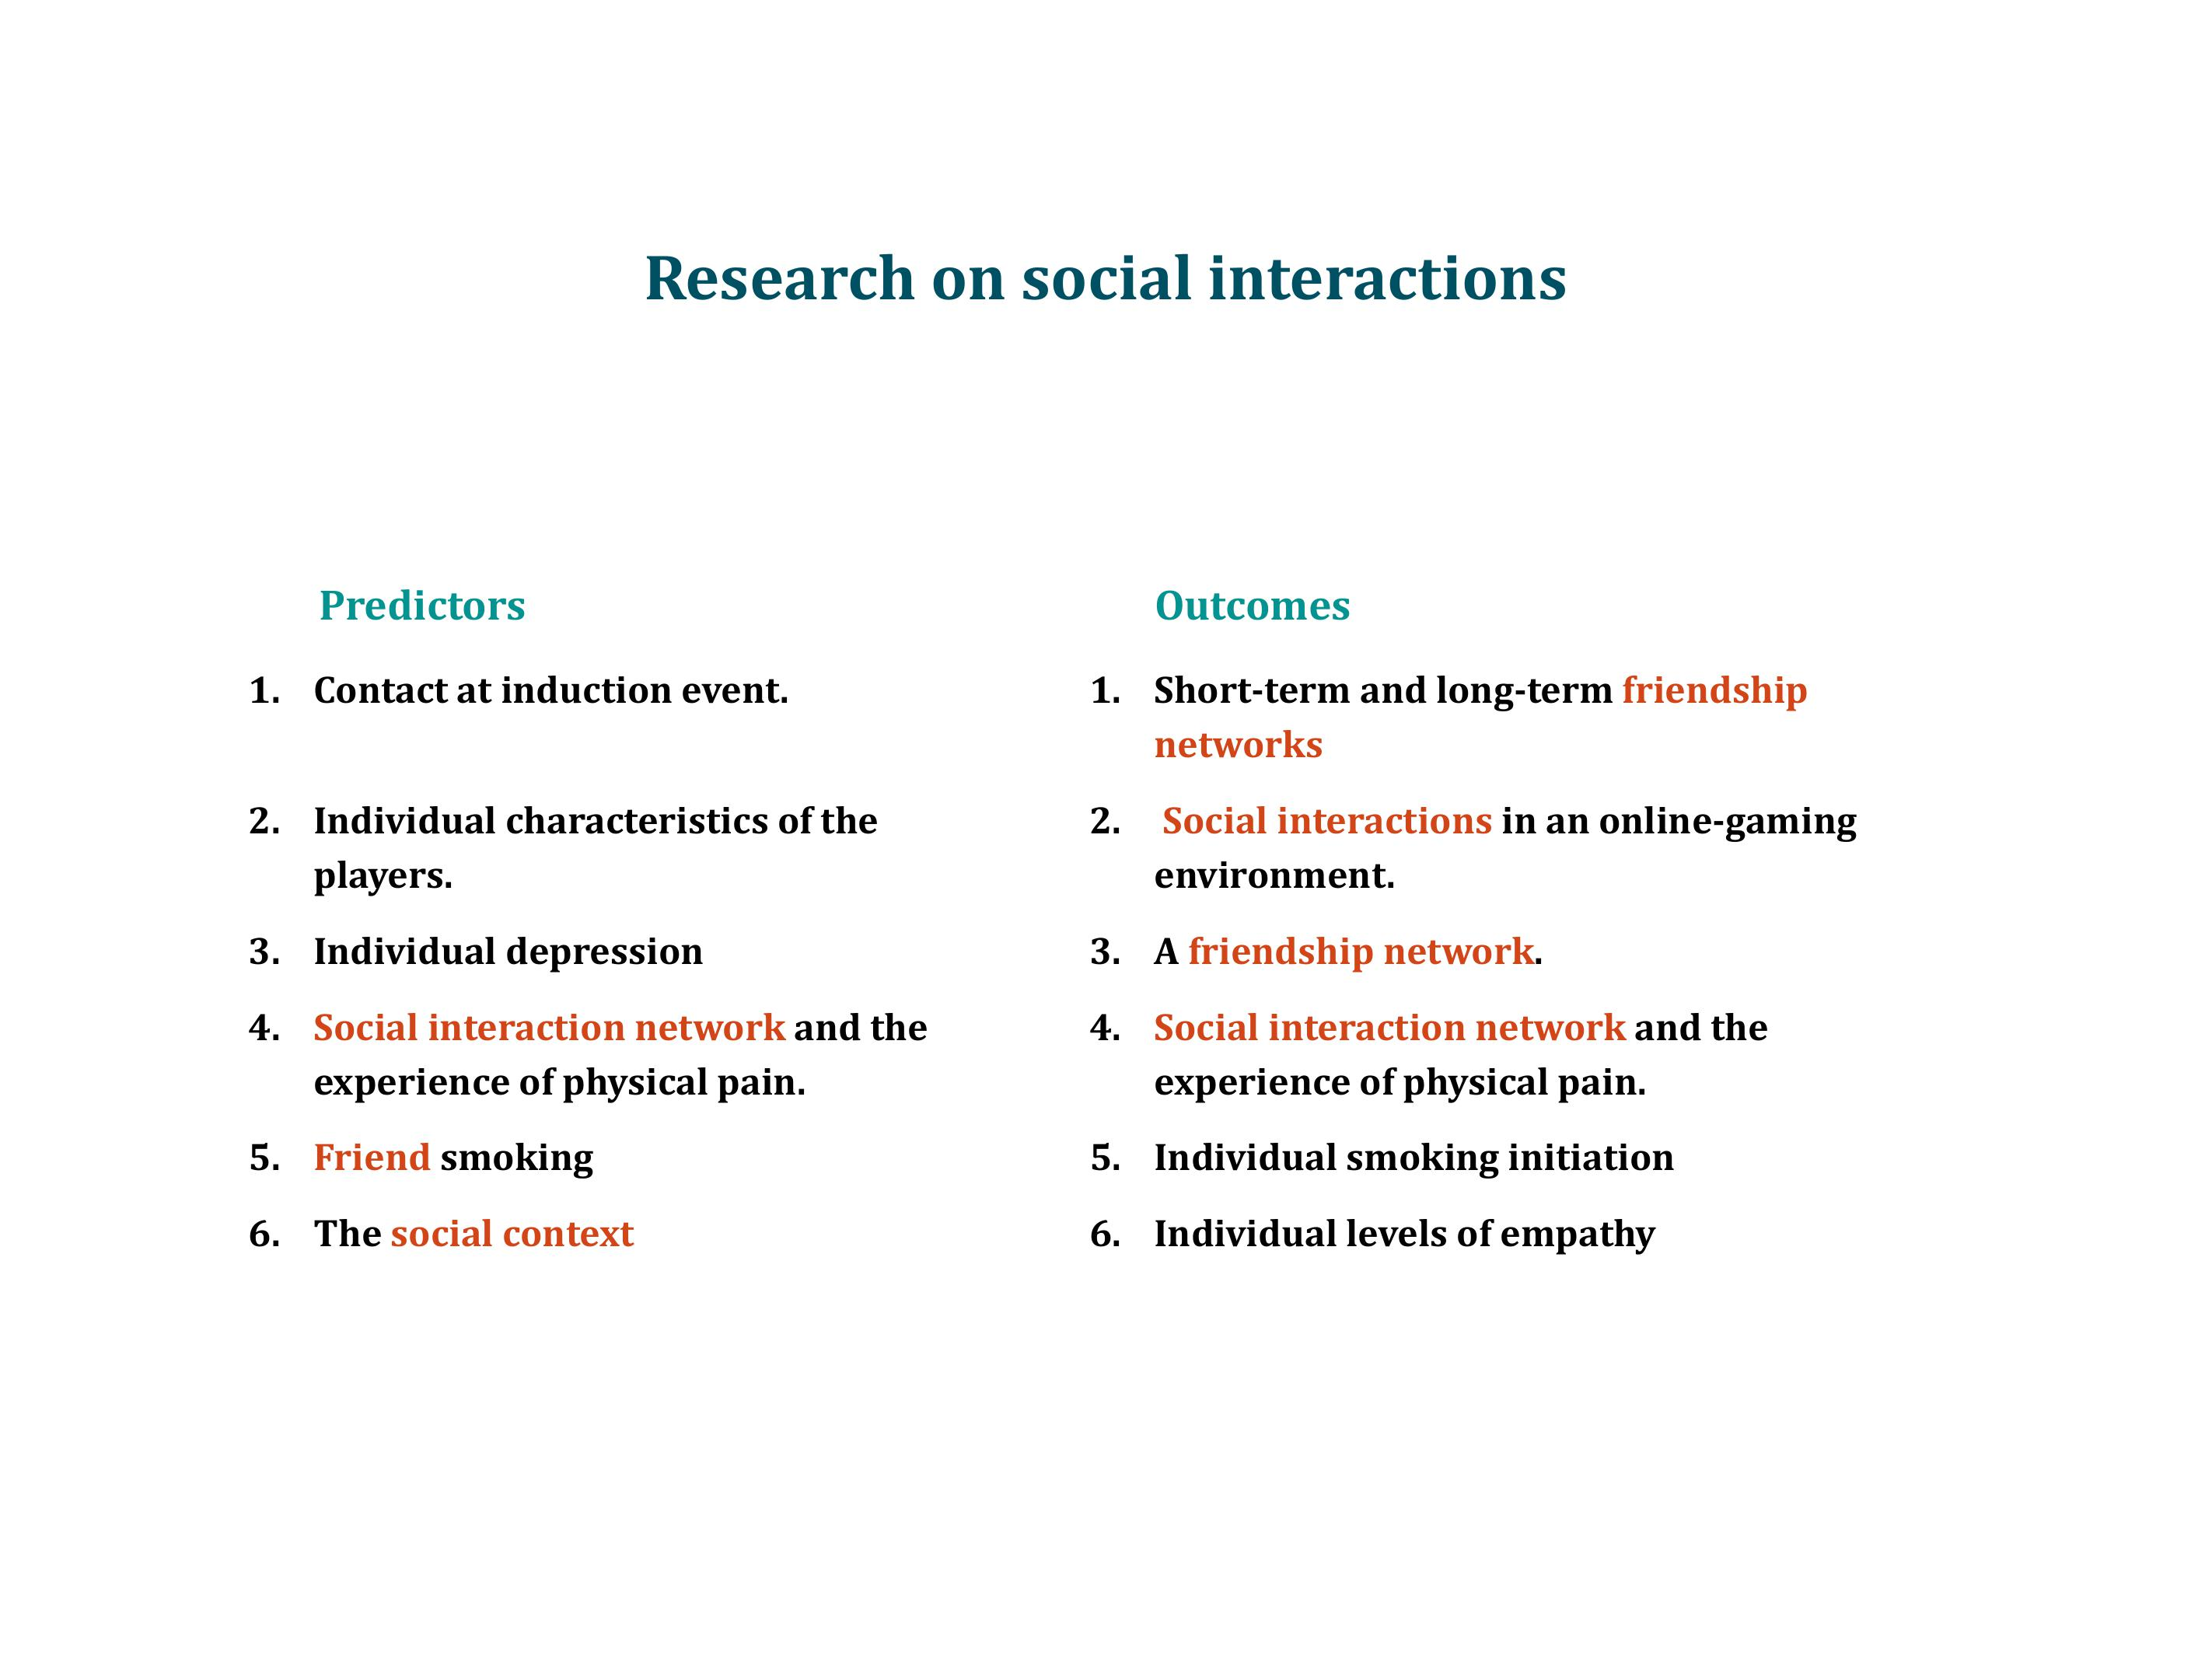Title: (628, 220, 1579, 328)
